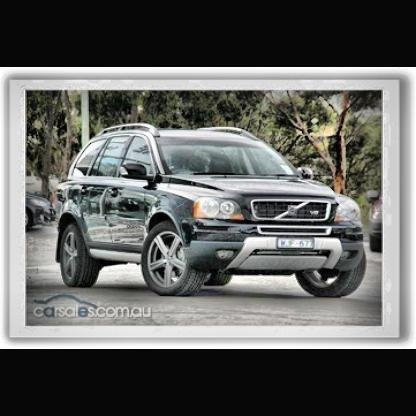Volvo XC90 SUV 2007: (56, 123, 371, 299)
